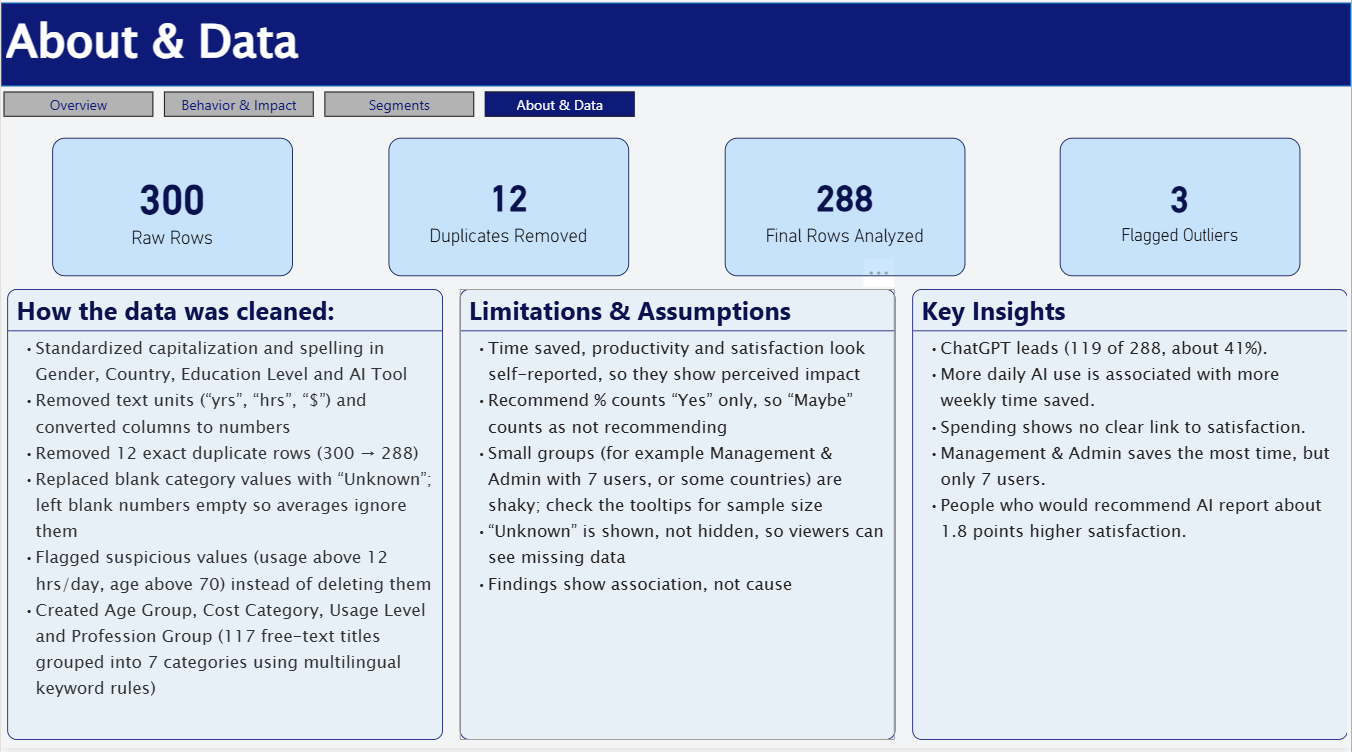

What the dashboard file says about the page in this screenshot:
{"tool":"powerbi","page":{"name":"About & Data","canvas":[1280,720],"ordinal":3},"visuals":[{"type":"shape","box":[0,13.2,1280,79.1],"z":0},{"type":"card","fields":{"Values":["_Measures.Flagged Outliers"]},"box":[1004.2,141.4,228,131.3],"z":0,"group":"g1"},{"type":"textbox","box":[0,13.2,503.4,79.1],"z":1000},{"type":"card","fields":{"Values":["_Measures.Total Users"]},"box":[685.8,141.4,228,131.3],"z":1000,"group":"g1"},{"type":"pageNavigator","box":[2.9,96.7,600.2,24.5],"z":2000},{"type":"card","fields":{"Values":["_Measures.Duplicates Removed"]},"box":[367.5,141.4,228,131.3],"z":2000,"group":"g1"},{"type":"card","fields":{"Values":["_Measures.Raw Rows"]},"box":[49.1,141.4,228,131.3],"z":3000,"group":"g1"},{"type":"textbox","title":"How the data was cleaned:","box":[5.8,284.2,412.6,427.1],"z":7000},{"type":"textbox","title":"Limitations & Assumptions","box":[434.3,284.2,412.6,427.1],"z":8000},{"type":"textbox","title":"Key Insights","box":[862.8,284.2,412.6,427.1],"z":9000},{"type":"group","id":"g1","title":"Group 1","box":[49.1,141.4,1183.1,131.3],"z":9005}]}

Visuals, with their boxes in screenshot pixels (x1, y1, x2, y2), scaled from the page's 1280x720 canvas onto the 1352x752 screenshot:
shape: box(0, 14, 1351, 96)
card - _Measures.Flagged Outliers: box(1061, 148, 1302, 285)
textbox: box(0, 14, 532, 96)
card - _Measures.Total Users: box(724, 148, 965, 285)
pageNavigator: box(3, 101, 637, 127)
card - _Measures.Duplicates Removed: box(388, 148, 629, 285)
card - _Measures.Raw Rows: box(52, 148, 293, 285)
"How the data was cleaned:" textbox: box(6, 297, 442, 743)
"Limitations & Assumptions" textbox: box(459, 297, 895, 743)
"Key Insights" textbox: box(911, 297, 1347, 743)
"Group 1" group: box(52, 148, 1302, 285)
